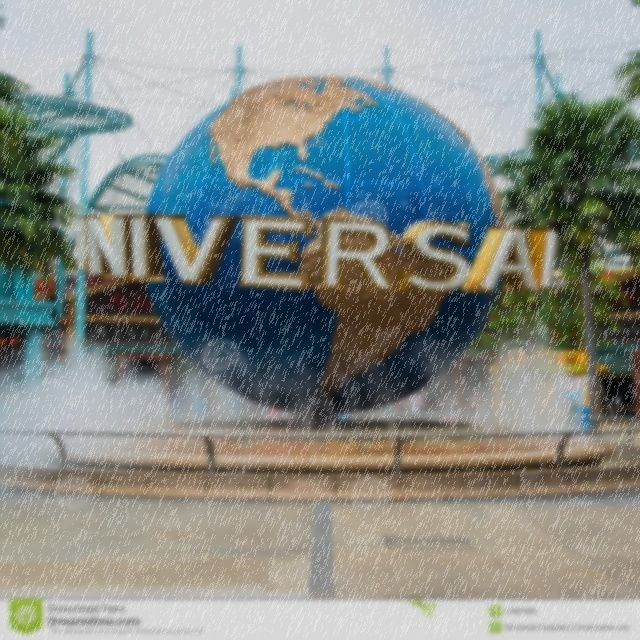pessoa: (216, 393, 284, 420), (170, 392, 187, 426), (154, 392, 168, 432), (468, 392, 486, 422), (192, 390, 209, 421), (406, 392, 423, 420), (438, 393, 459, 413), (416, 390, 432, 410), (393, 398, 409, 413)
